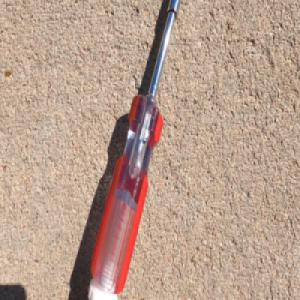Screwdriver: (87, 0, 183, 300)
